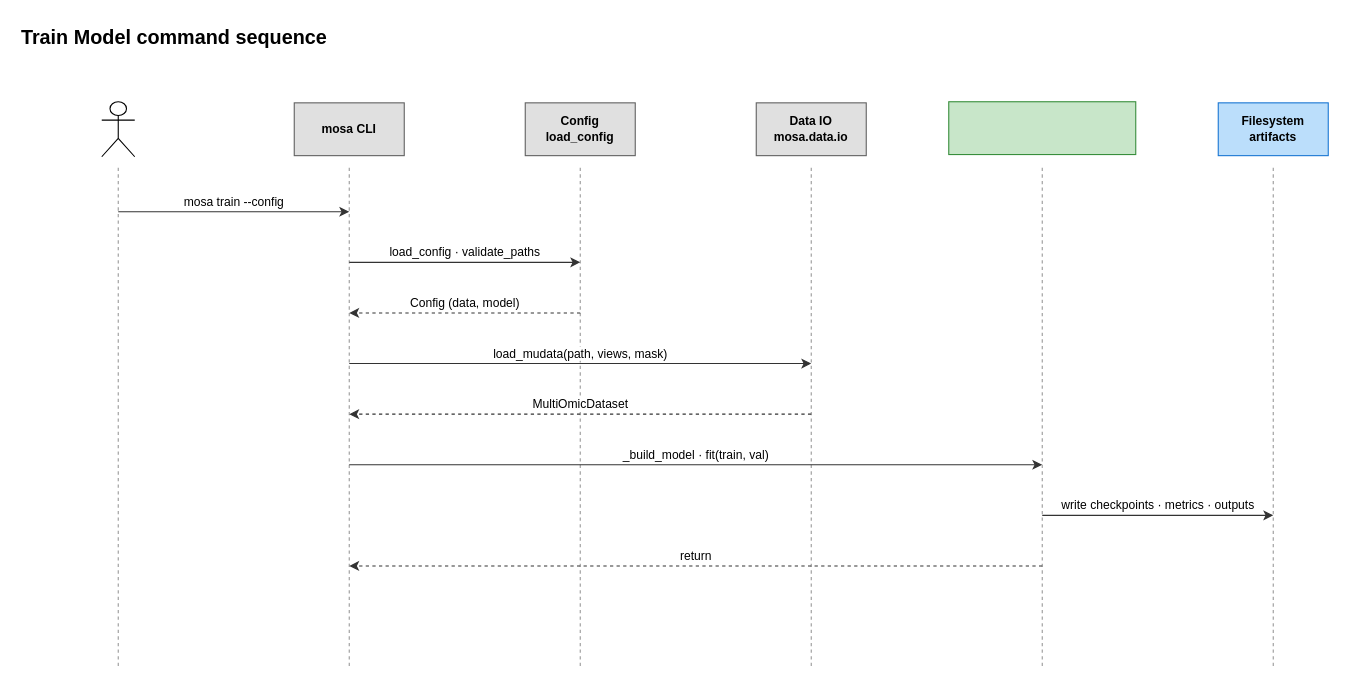
Image size: 1348x686. Some labels were removed from this diagram. The box of each missing label's shape, as (x1, y1, x2, y2) in pixels:
Model MOSAVAEModel / MOFAModel: (948, 101, 1136, 155)
User: (101, 101, 135, 157)
